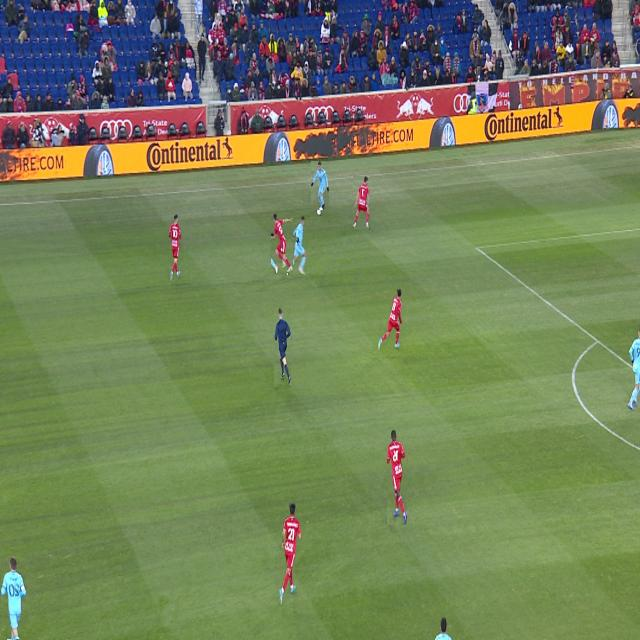football: (317, 208, 321, 215)
player: (279, 502, 302, 605), (1, 557, 26, 640), (387, 430, 407, 525), (378, 289, 402, 351), (271, 214, 293, 273), (286, 217, 307, 277), (628, 328, 640, 410), (353, 177, 370, 228), (311, 162, 329, 210), (169, 213, 181, 282), (435, 617, 452, 640)
referee: (275, 309, 291, 387)
